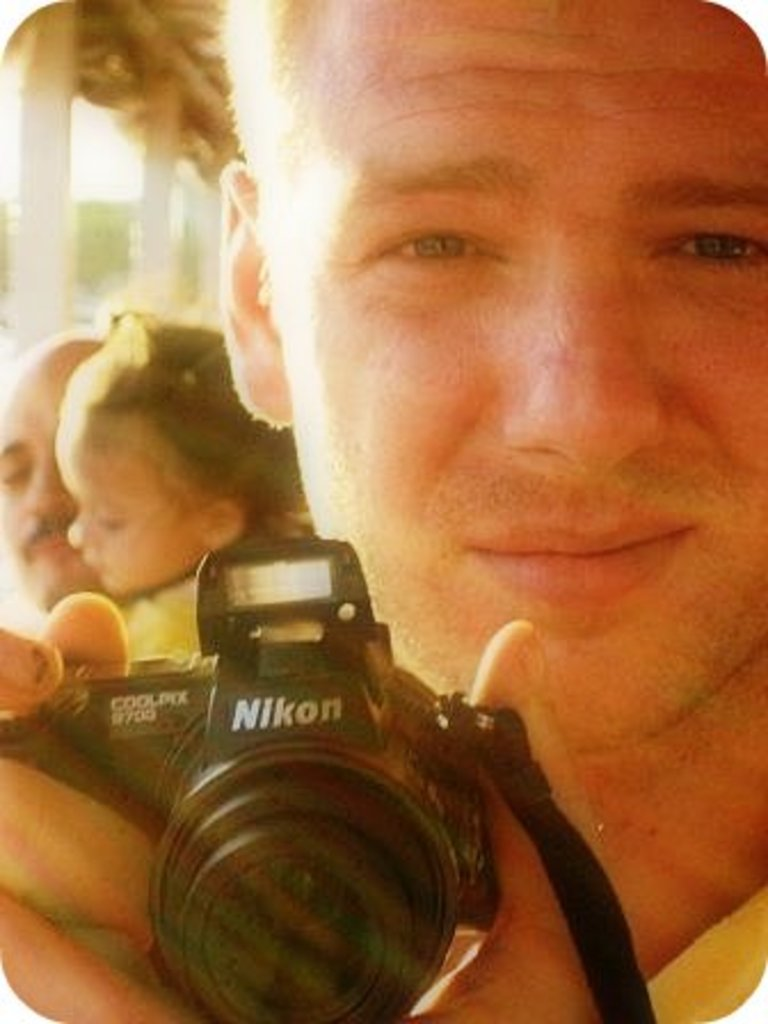Person: (0, 313, 301, 665), (0, 337, 106, 612)
